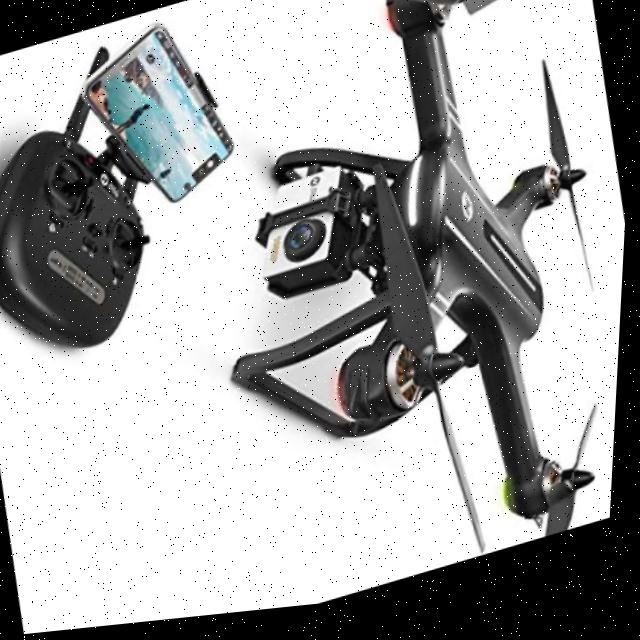drones: (142, 0, 640, 626)
